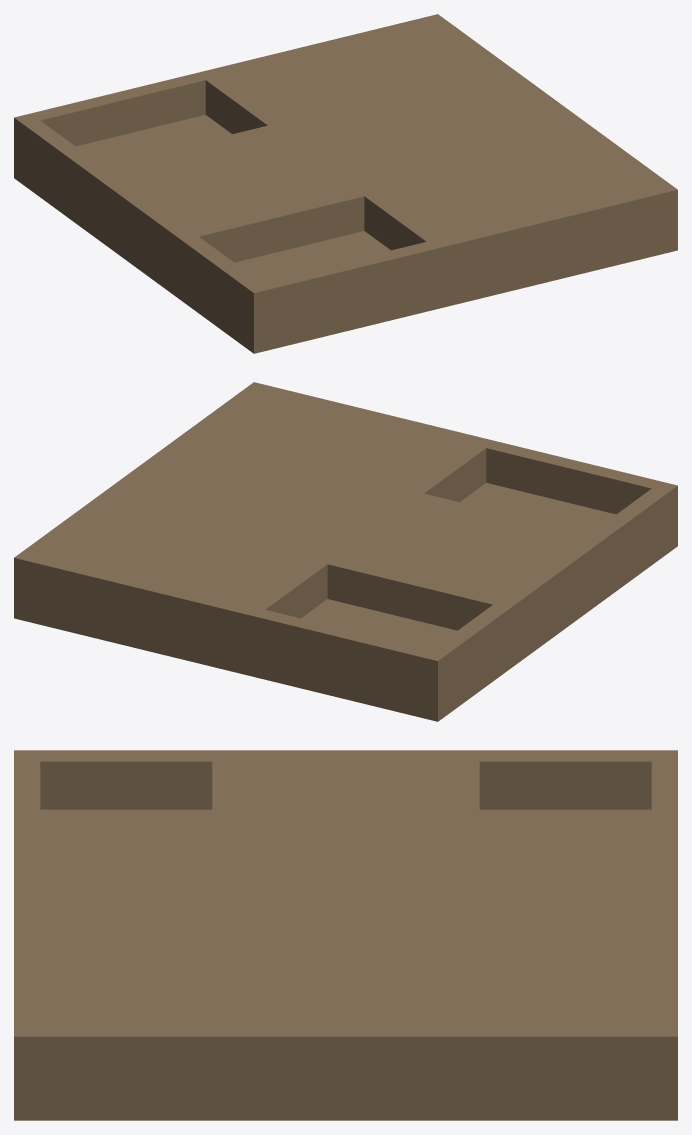
The model's file is gallery-approach-ground-C-v2.glb.
3 views of the same model, one above another, from view 1: azimuth 30°, elevation 25°; view 2: azimuth 150°, elevation 25°; view 3: azimuth 270°, elevation 25° (orthographic). The views are drawn at different scales.
Visible parts, largest first — view 1: APPROACH-GROUND-C; view 2: APPROACH-GROUND-C; view 3: APPROACH-GROUND-C.
Part boxes in pixels (x1,y1,x2,y2): APPROACH-GROUND-C: [14, 14, 677, 353]; APPROACH-GROUND-C: [14, 382, 677, 721]; APPROACH-GROUND-C: [14, 750, 677, 1120].
Size of the model in its own units: 2.56 by 0.35 by 2.51.
